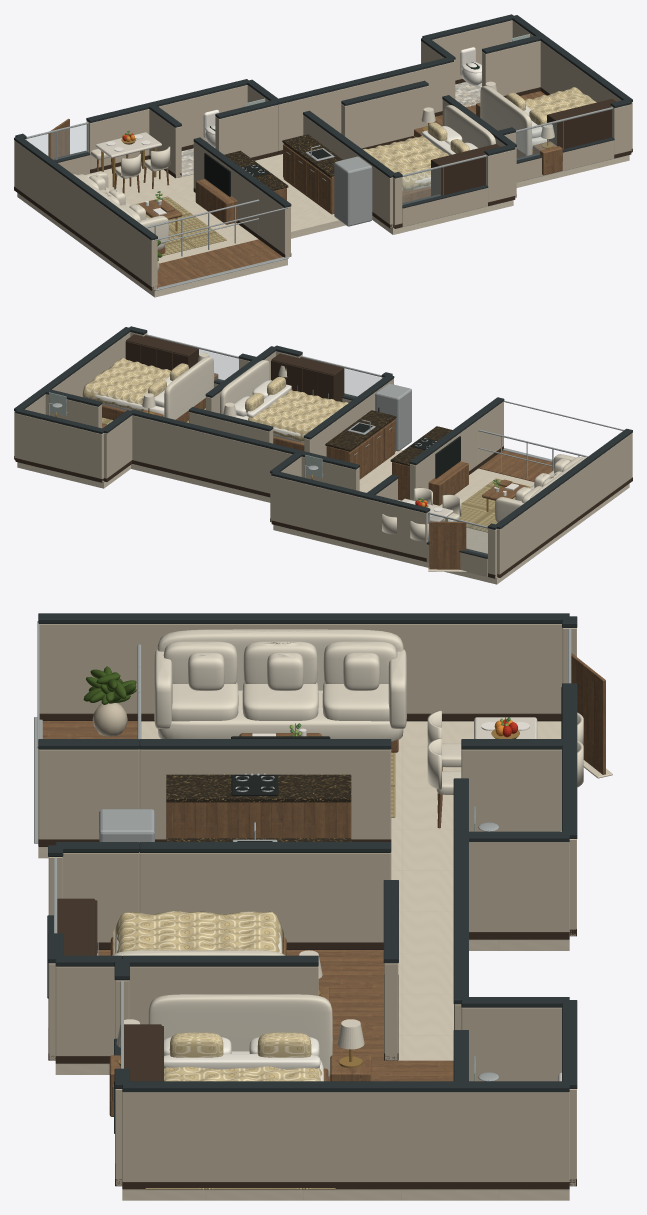
The model's file is Codename-Elements_Tower-2_Flat-04_2BHK.glb.
3 views of the same model, one above another, from view 1: azimuth 30°, elevation 25°; view 2: azimuth 150°, elevation 25°; view 3: azimuth 270°, elevation 25° (orthographic). The views are drawn at different scales.
Visible parts, largest first — view 1: Apartment foundation, Ivory masonry.007, Ivory masonry.011, Ivory masonry.009, Ivory masonry.016, Ivory masonry.020, Ivory masonry.018, Brushed refrigerator, Ivory masonry.014, Dark fitted wardrobe, Soft jacquard duvet with folds.004, Dark fitted wardrobe.001 (+46 smaller); view 2: Ivory masonry.009, Ivory masonry.011, Ivory masonry.007, Apartment foundation, Ivory masonry.013, Soft jacquard duvet with folds.004, Soft jacquard duvet with folds.003, Padded headboard.003, Ivory masonry.014, Open walnut door leaf, Brushed refrigerator, Ivory masonry.022 (+45 smaller); view 3: Ivory masonry.014, Apartment foundation, Ivory masonry.007, Ivory masonry.017, Ivory masonry.022, Ivory masonry.010, Ivory masonry.006, Padded headboard.003, Ivory masonry.021, Ivory masonry.012, Kitchen cabinetry.001, Soft jacquard duvet with folds.004 (+52 smaller).
Boxes of the visible parts, x1,y1,x2,y2 form: Apartment foundation: (17,154,629,297); Ivory masonry.007: (14,140,157,290); Ivory masonry.011: (278,62,453,150); Ivory masonry.009: (86,85,247,169); Ivory masonry.016: (341,86,428,148); Ivory masonry.020: (215,104,278,157); Ivory masonry.018: (482,41,540,95); Brushed refrigerator: (334,156,372,226); Ivory masonry.014: (512,20,632,151); Dark fitted wardrobe: (547,99,616,149); Soft jacquard duvet with folds.004: (363,135,448,190); Dark fitted wardrobe.001: (431,144,499,195); Ivory masonry.009: (271,476,429,557); Ivory masonry.011: (132,415,292,493); Ivory masonry.007: (497,433,632,577); Apartment foundation: (17,449,629,584); Ivory masonry.013: (15,413,103,481); Soft jacquard duvet with folds.004: (248,390,348,441); Soft jacquard duvet with folds.003: (82,358,170,411); Padded headboard.003: (164,356,214,419); Ivory masonry.014: (14,332,130,459); Open walnut door leaf: (429,521,466,569); Brushed refrigerator: (375,383,411,451); Ivory masonry.022: (410,420,478,500); Ivory masonry.014: (122,1092,569,1181); Apartment foundation: (38,721,569,1200); Ivory masonry.007: (39,624,562,713); Ivory masonry.017: (139,852,391,942); Ivory masonry.022: (139,749,391,839); Ivory masonry.010: (469,842,569,931); Ivory masonry.006: (38,749,139,839); Padded headboard.003: (148,994,332,1077); Ivory masonry.021: (461,749,561,831); Ivory masonry.012: (461,1007,561,1081); Kitchen cabinetry.001: (166,802,351,838); Soft jacquard duvet with folds.004: (113,911,283,954).
Size of the model in its own units: 11.51 by 1.37 by 5.93.
25 materials, 6 textured.
